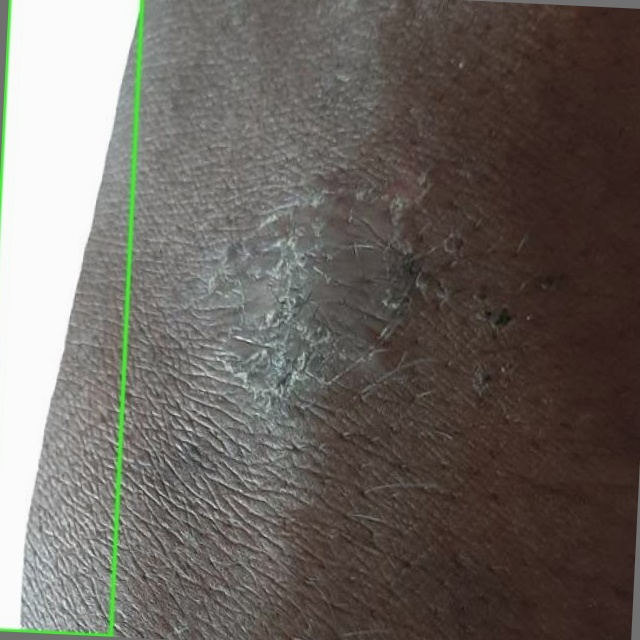Scabies: (0, 0, 142, 636)
